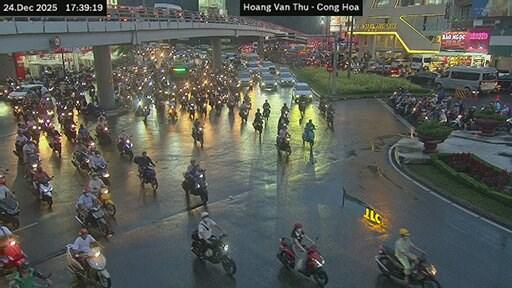motorbike: (191, 229, 236, 274), (66, 243, 109, 287), (300, 246, 326, 286), (374, 244, 402, 279), (74, 206, 109, 234), (0, 235, 25, 273), (409, 256, 440, 286), (182, 169, 207, 202), (32, 175, 53, 207), (0, 197, 19, 229), (277, 237, 294, 269), (96, 188, 115, 216), (137, 166, 157, 189), (89, 165, 108, 184), (117, 139, 133, 158), (70, 153, 88, 169), (275, 135, 290, 154), (47, 135, 60, 156), (96, 126, 111, 143), (38, 117, 53, 133), (278, 111, 288, 133), (64, 122, 76, 140), (28, 125, 39, 144), (303, 129, 313, 148), (193, 125, 202, 145), (141, 104, 150, 121), (12, 103, 22, 118), (252, 120, 262, 135), (167, 103, 175, 121), (298, 100, 306, 117), (198, 102, 207, 116), (227, 99, 236, 112), (239, 108, 248, 121), (326, 111, 332, 129), (188, 103, 194, 117), (262, 108, 268, 121), (214, 99, 220, 112)
